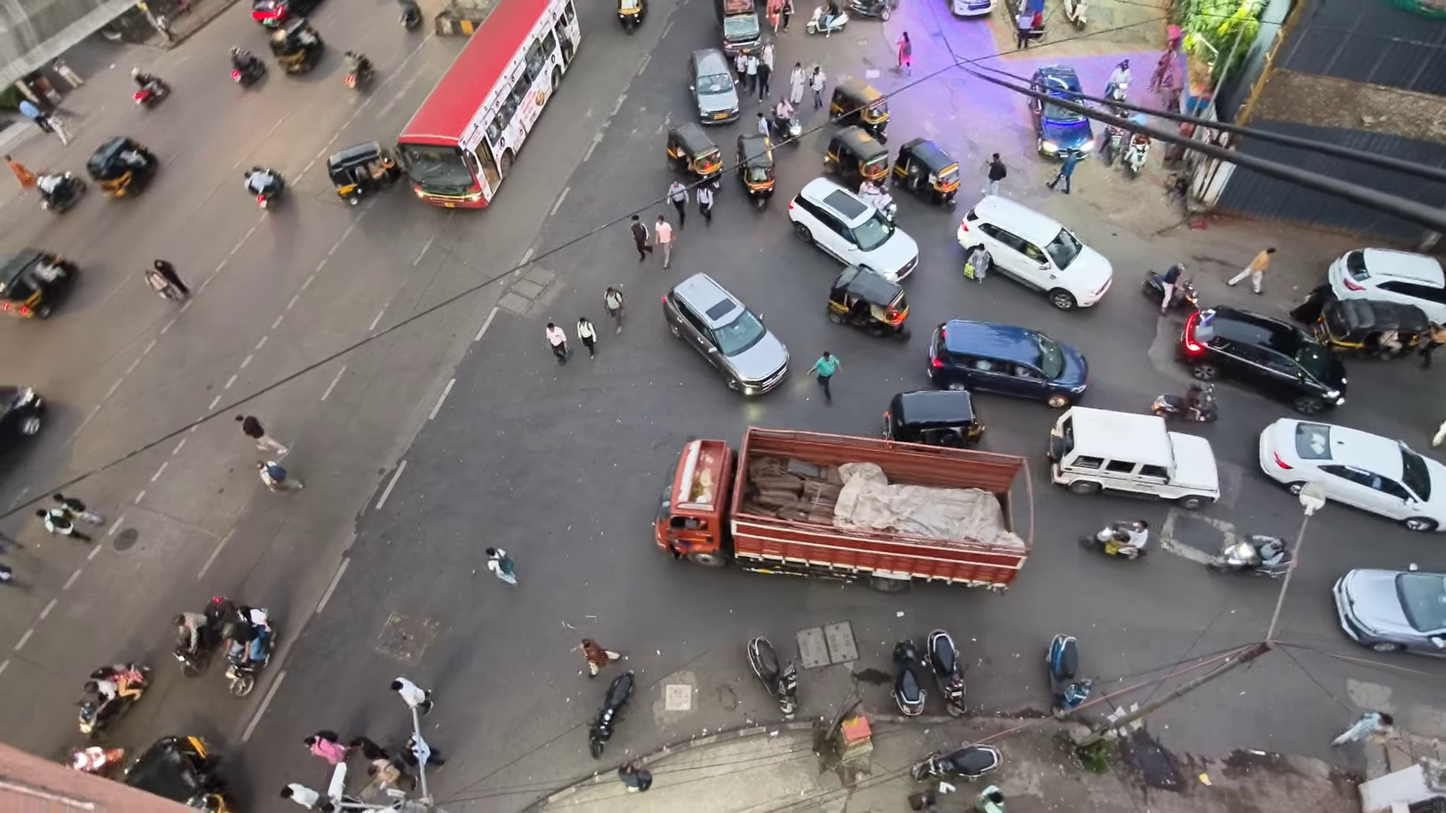driving: (655, 427, 1029, 591), (397, 0, 581, 207), (1258, 419, 1445, 531), (1177, 306, 1347, 415), (956, 196, 1112, 309), (663, 273, 789, 395), (927, 319, 1088, 408), (788, 178, 919, 282), (1030, 98, 1094, 157)
walking: (1228, 247, 1276, 294), (235, 416, 288, 458), (1332, 711, 1393, 746), (36, 507, 91, 541), (805, 350, 839, 400), (53, 493, 104, 525), (580, 638, 621, 677), (304, 730, 348, 766), (390, 678, 432, 714), (257, 461, 304, 492), (367, 760, 414, 791), (403, 733, 444, 768), (1047, 152, 1081, 193), (143, 267, 185, 300), (154, 259, 190, 296), (279, 783, 330, 809), (485, 547, 517, 584), (1160, 263, 1183, 314), (1419, 323, 1445, 367), (18, 99, 51, 132), (618, 760, 652, 792), (964, 243, 991, 282), (545, 321, 569, 364), (630, 215, 652, 261), (349, 735, 389, 760), (654, 214, 673, 266), (667, 181, 688, 228), (5, 156, 35, 188), (758, 43, 774, 102), (52, 59, 84, 88), (605, 285, 624, 333), (576, 316, 596, 358), (986, 153, 1006, 194), (789, 62, 807, 106), (695, 183, 713, 226), (45, 113, 69, 145), (809, 65, 826, 110), (1015, 7, 1033, 49), (897, 32, 911, 75), (745, 53, 759, 93), (734, 50, 746, 86), (781, 0, 793, 32), (1431, 421, 1445, 446), (757, 111, 770, 136), (0, 564, 14, 584)
